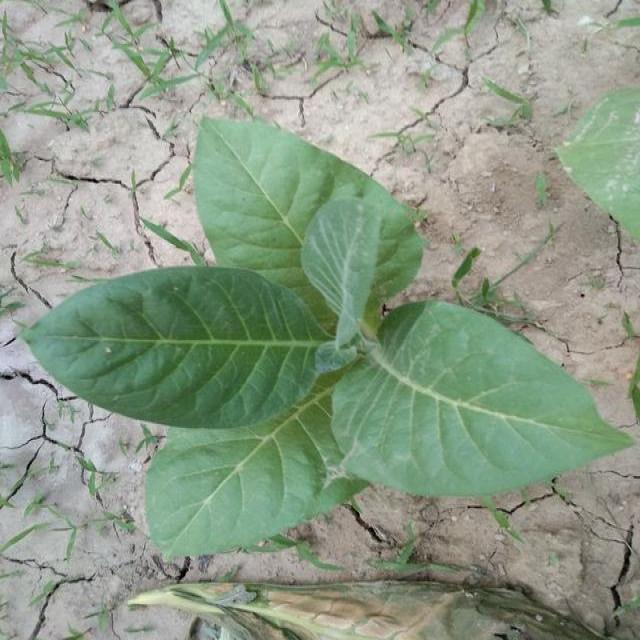crop: (22, 101, 635, 568)
